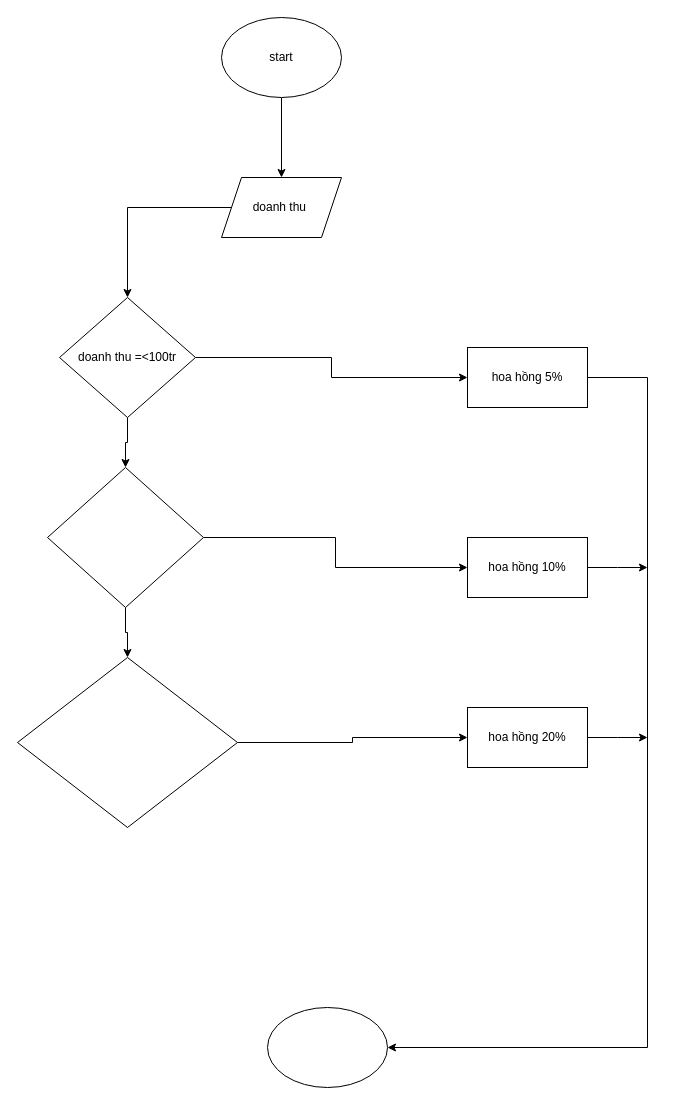
This 673x1105 diagram has some shape labels left out. Here are the shapes that lost their labels. From the top down, the centre of each, then its label:
point 125,537: doanh thu =<300tr
point 127,742: doanh thu >= 300tr
point 327,1047: end
